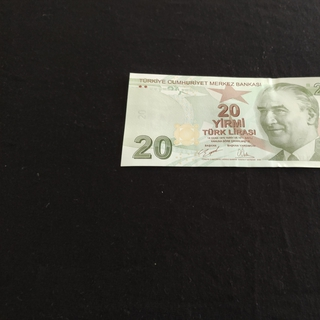20TLFront: (119, 70, 320, 168)
